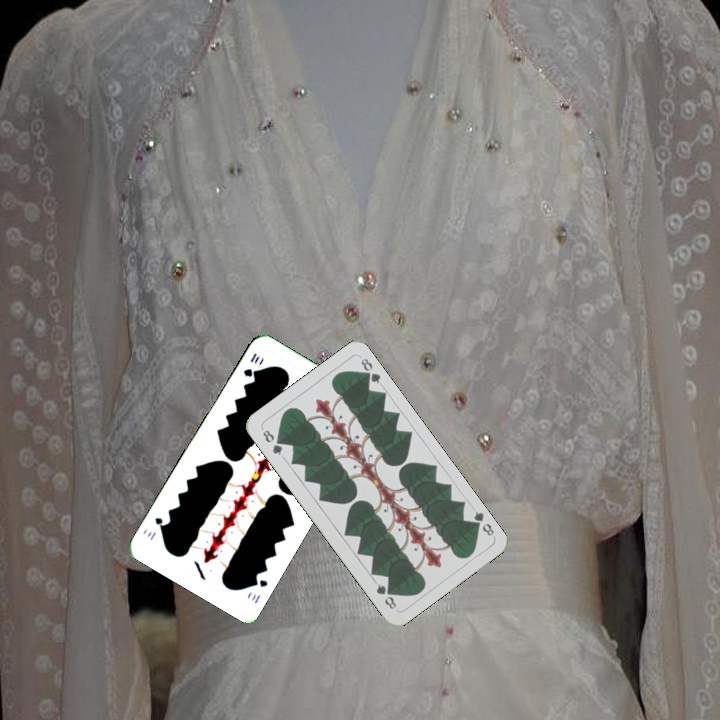G10: (247, 574, 270, 607), (239, 349, 262, 380)
G8: (467, 507, 497, 539), (258, 425, 285, 458)
